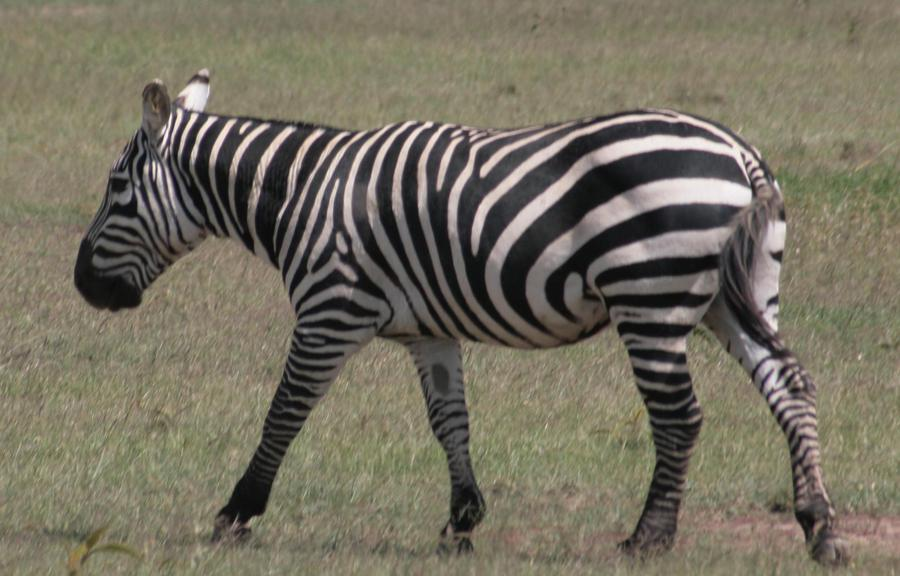zebra_plains: (270, 104, 727, 366)
